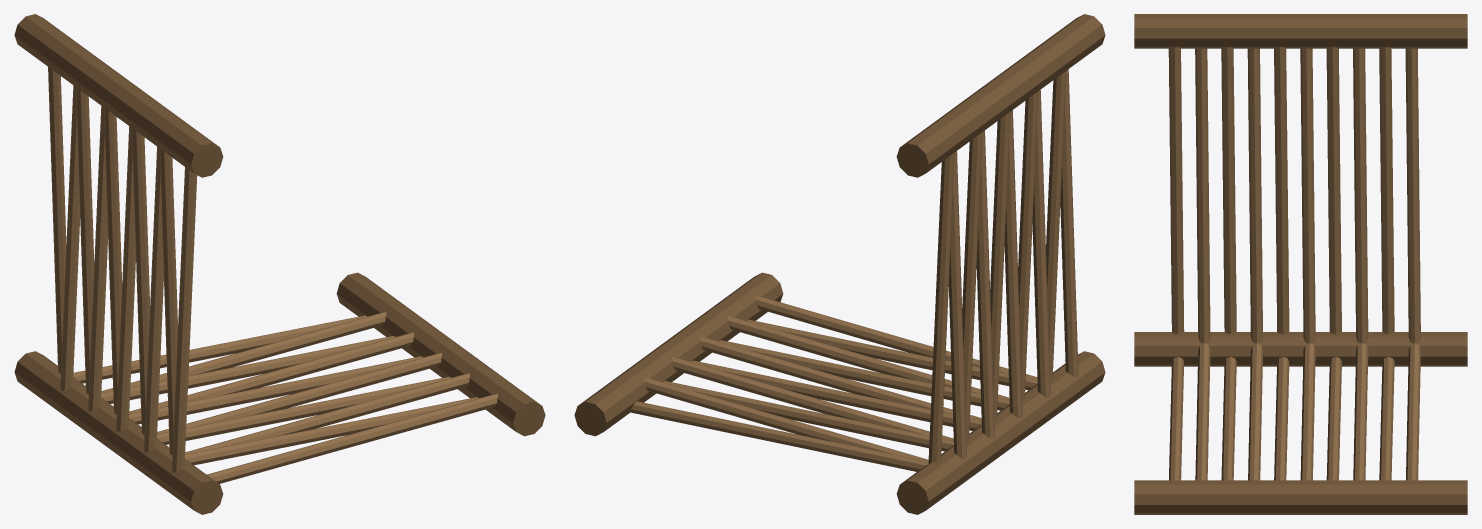
The model's file is wall_wattle_corner.glb.
The picture shows the model from 3 angles, left to right: view 1: azimuth 30°, elevation 25°; view 2: azimuth 150°, elevation 25°; view 3: azimuth 270°, elevation 25°; orthographic projection. The views are drawn at different scales.
Parts seen in each view (by area): view 1: world; view 2: world; view 3: world.
Boxes of the visible parts, box(x1,y1,x2,y2) form: world: box(14, 14, 545, 514); world: box(574, 14, 1105, 514); world: box(1134, 14, 1467, 514).
Size of the model in its own units: 2.2 by 2.19 by 1.9.
